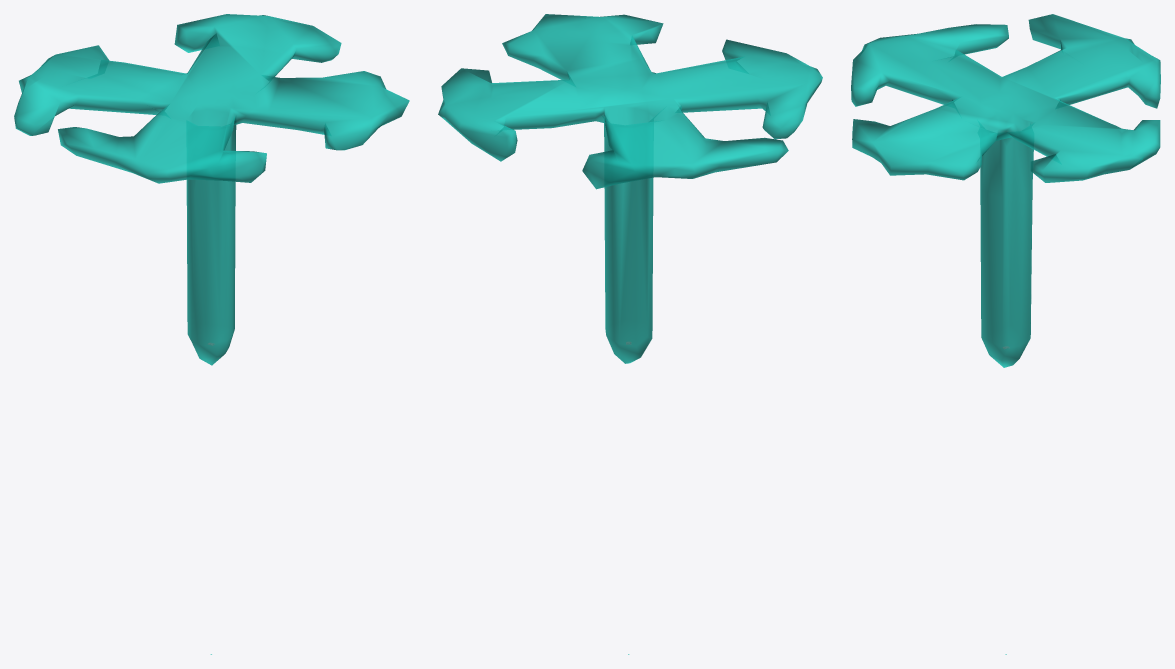
3 views of the same model, side by side, from view 1: azimuth 30°, elevation 25°; view 2: azimuth 150°, elevation 25°; view 3: azimuth 270°, elevation 25° (orthographic).
Parts seen in each view (by area): view 1: Liquid_Domain; view 2: Liquid_Domain; view 3: Liquid_Domain.
Boxes of the visible parts, x1,y1,x2,y2 form: Liquid_Domain: [14, 14, 409, 365]; Liquid_Domain: [438, 14, 822, 363]; Liquid_Domain: [851, 14, 1160, 367].
Bounding box in the file's own units: 412 × 683 × 344.
